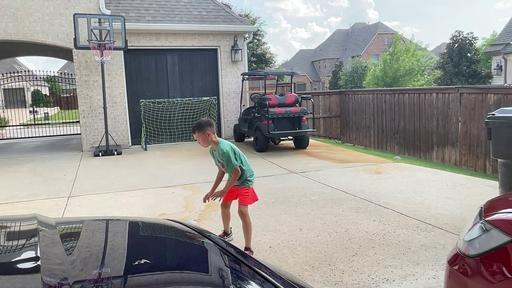human: (192, 118, 259, 254)
rim: (86, 38, 116, 60)
